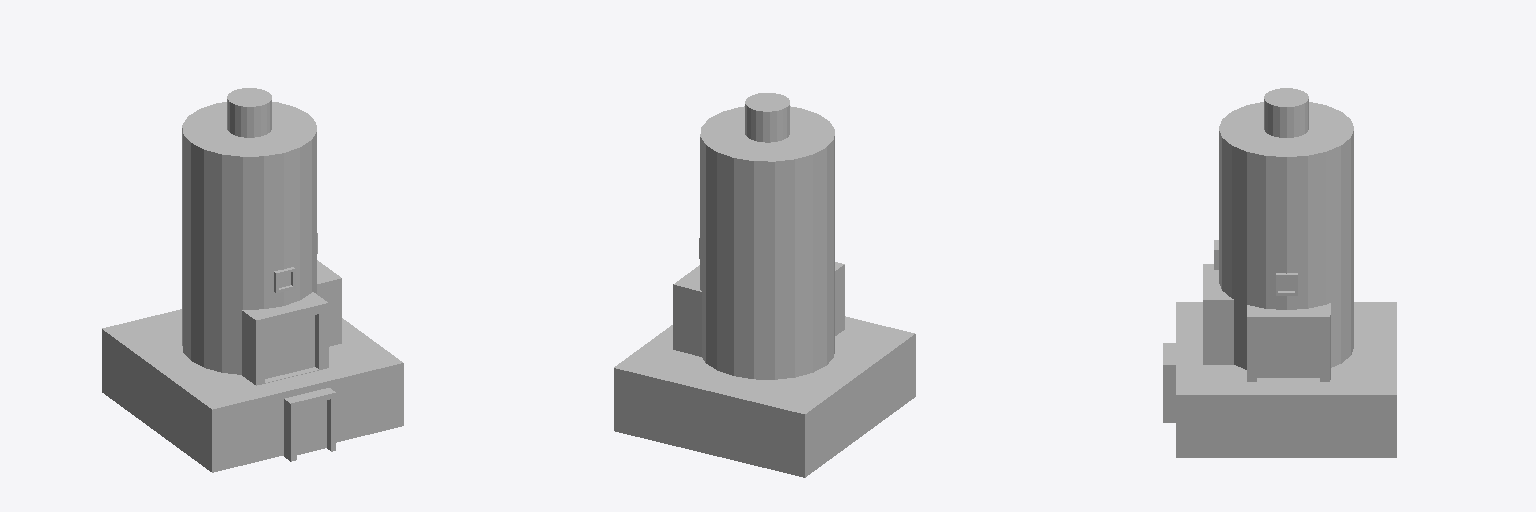
The model's file is building_cyl!.obj.
The picture shows the model from 3 angles: view 1: azimuth 30°, elevation 25°; view 2: azimuth 150°, elevation 25°; view 3: azimuth 270°, elevation 25°; orthographic projection.
Visible parts, largest first — view 1: pCube28; view 2: pCube28; view 3: pCube28.
Part boxes in pixels (left/top/right/bottom): pCube28: left=102, top=88, right=403, bottom=472; pCube28: left=614, top=93, right=915, bottom=477; pCube28: left=1163, top=88, right=1396, bottom=457.
Size of the model in its own units: 302 by 473 by 321.